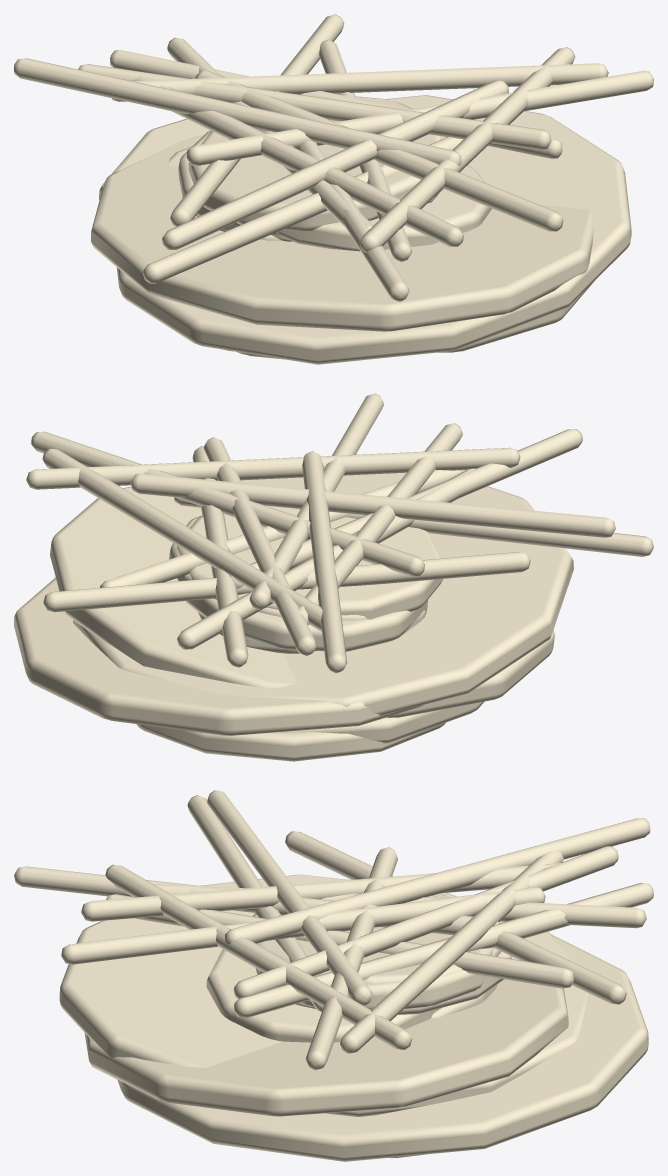
Rendered from Noodles_Cooked.glb.
The picture shows the model from 3 angles, top to bottom: view 1: azimuth 30°, elevation 25°; view 2: azimuth 150°, elevation 25°; view 3: azimuth 270°, elevation 25°; orthographic projection.
Visible parts, largest first — view 1: Noodles_Cooked; view 2: Noodles_Cooked; view 3: Noodles_Cooked.
Part boxes in pixels (left/top/right/bottom): Noodles_Cooked: left=14, top=14, right=653, bottom=364; Noodles_Cooked: left=14, top=393, right=653, bottom=761; Noodles_Cooked: left=14, top=790, right=653, bottom=1161.
Size of the model in its own units: 0.1305 by 0.0407 by 0.127.
